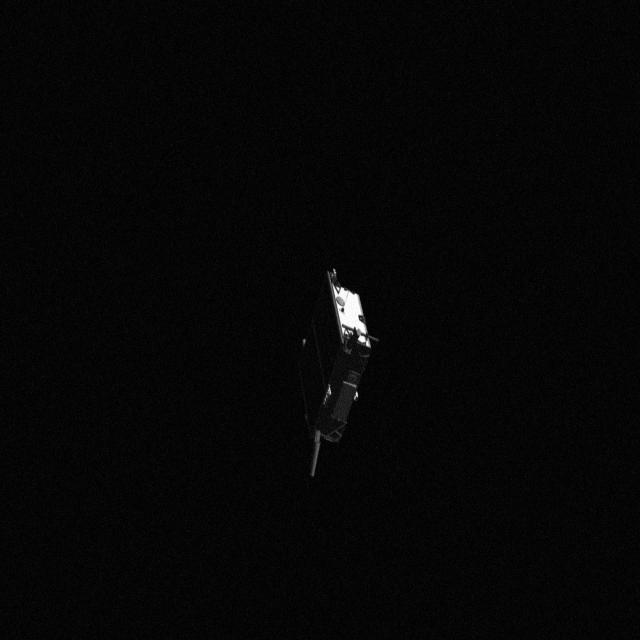medium_debris: (292, 266, 376, 494)
